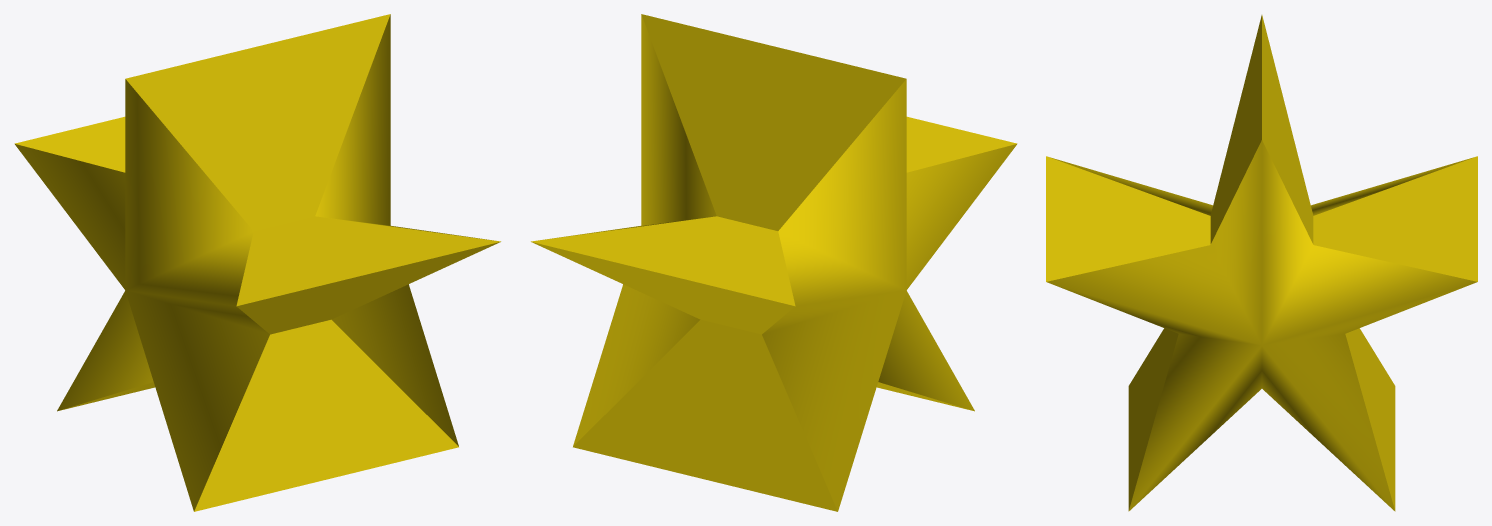
File: StarModel.fbx
3 views of the same model, side by side, from view 1: azimuth 30°, elevation 25°; view 2: azimuth 150°, elevation 25°; view 3: azimuth 270°, elevation 25° (orthographic). The views are drawn at different scales.
Parts seen in each view (by area): view 1: Star; view 2: Star; view 3: Star.
Part boxes in pixels (x1=…): Star: x1=14, y1=14, x2=500, y2=511; Star: x1=531, y1=14, x2=1017, y2=511; Star: x1=1046, y1=15, x2=1477, y2=511.
Bounding box in the file's own units: 1.31 × 1.81 × 1.9.
